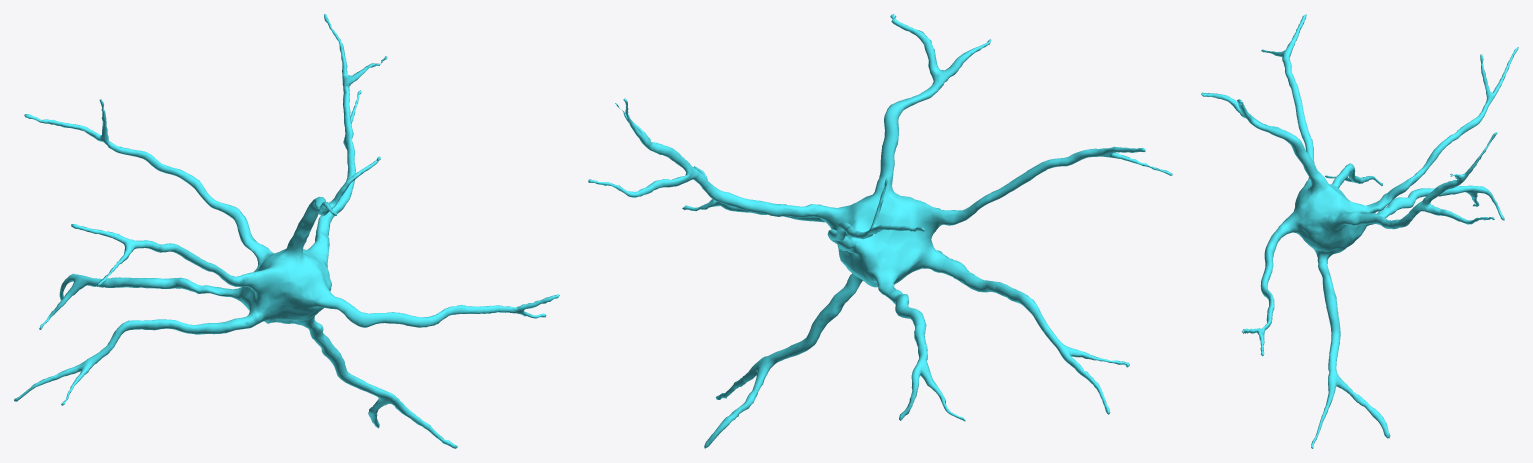
File: neuron.glb
3 renders of one model, left to right at view 1: azimuth 30°, elevation 25°; view 2: azimuth 150°, elevation 25°; view 3: azimuth 270°, elevation 25°, orthographic. The views are drawn at different scales.
Parts seen in each view (by area): view 1: Object_2; view 2: Object_2; view 3: Object_2.
Part boxes in pixels (x1=…): Object_2: x1=14, y1=14, x2=559, y2=448; Object_2: x1=588, y1=14, x2=1172, y2=448; Object_2: x1=1201, y1=14, x2=1518, y2=448.
Bounding box in the file's own units: 12.19 × 9.16 × 8.49.
